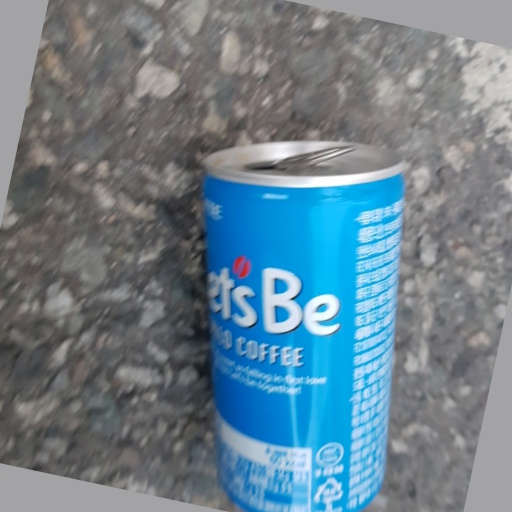Metal_0: (199, 141, 411, 511)
